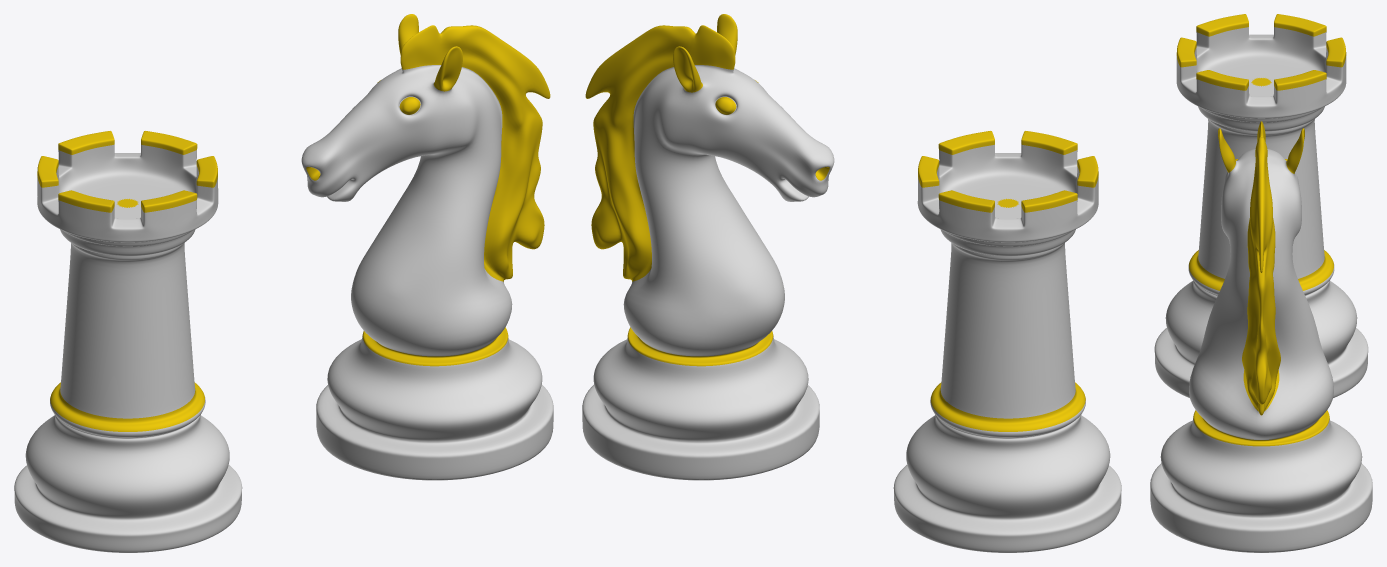
3 views of the same model, side by side, from view 1: azimuth 30°, elevation 25°; view 2: azimuth 150°, elevation 25°; view 3: azimuth 270°, elevation 25° (orthographic). The views are drawn at different scales.
Parts seen in each view (by area): view 1: Sphere.003, Circle; view 2: Sphere.003, Circle; view 3: Sphere.003, Circle.
Part boxes in pixels (x1=…): Sphere.003: x1=301, y1=14, x2=553, y2=480; Circle: x1=14, y1=131, x2=242, y2=552; Sphere.003: x1=582, y1=14, x2=834, y2=480; Circle: x1=893, y1=131, x2=1121, y2=552; Sphere.003: x1=1150, y1=121, x2=1372, y2=552; Circle: x1=1154, y1=14, x2=1368, y2=397.
Bounding box in the file's own units: 10.31 × 7.72 × 4.07.
